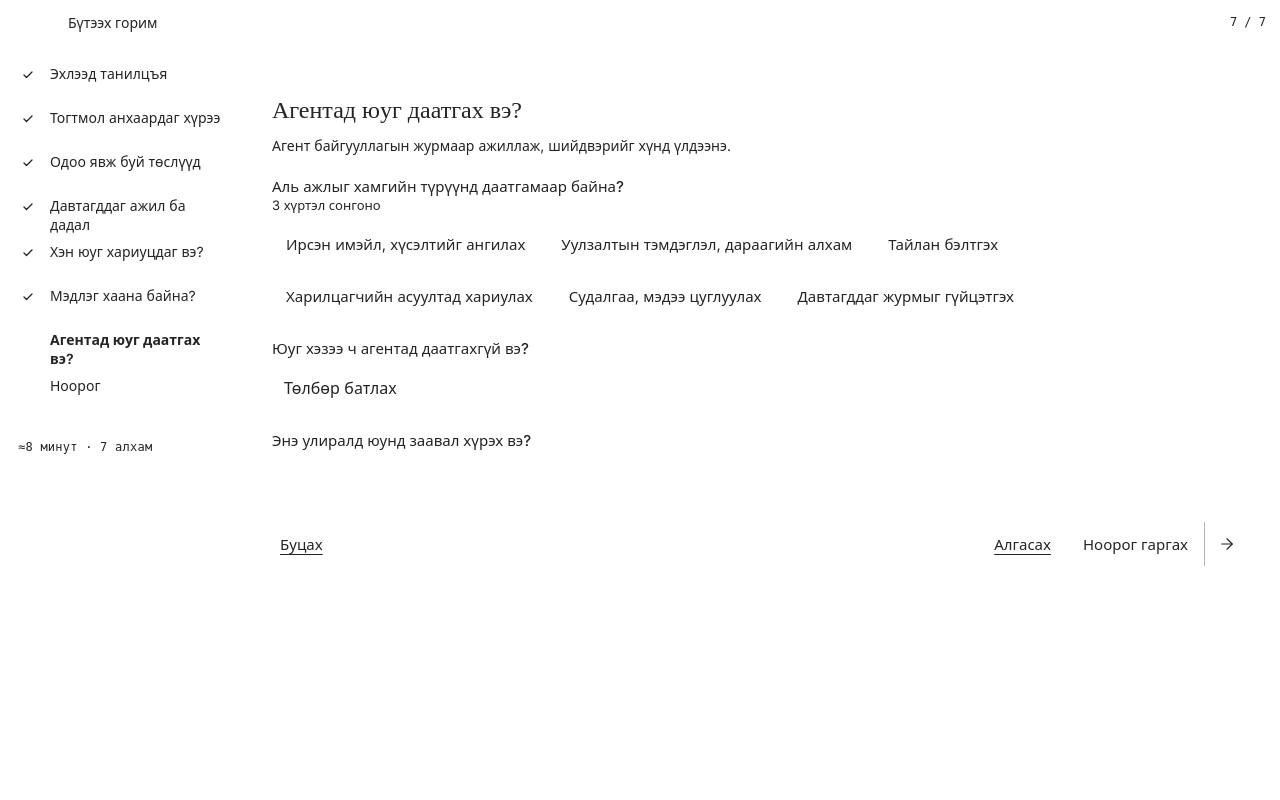
Test: BuildWizard (recipe v05, adaptive) › draws the draft sections from the answers, inventing nothing
Click the button "Ноорог гаргах" at (1158, 544), box x1=1067 y1=522 x2=1248 y2=566
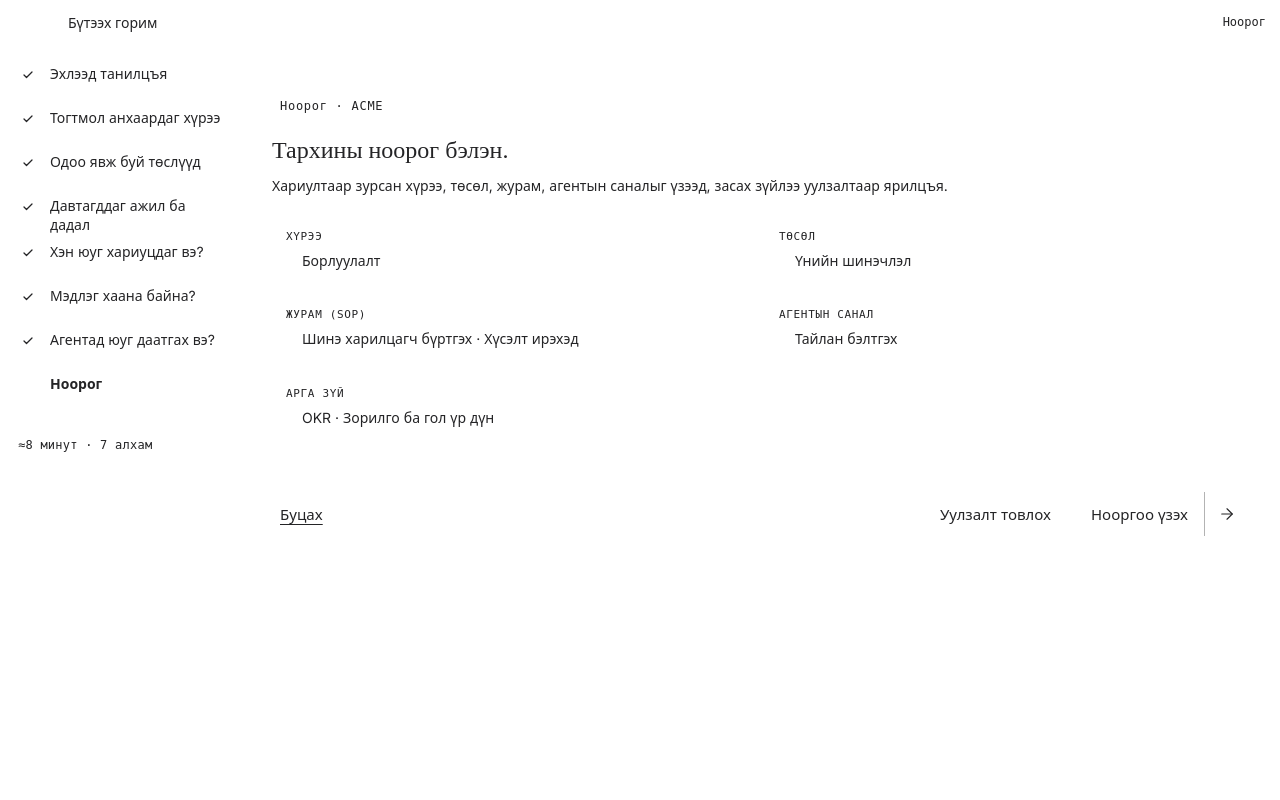
Check: the list item "Борлуулалт" is shown, box x1=302 y1=252 x2=380 y2=269
Check: the list item "Үнийн шинэчлэл" is shown, box x1=795 y1=252 x2=911 y2=269
Check: the list item "Шинэ харилцагч бүртгэх · Хүсэлт ирэхэд" is shown, box x1=302 y1=330 x2=578 y2=347
